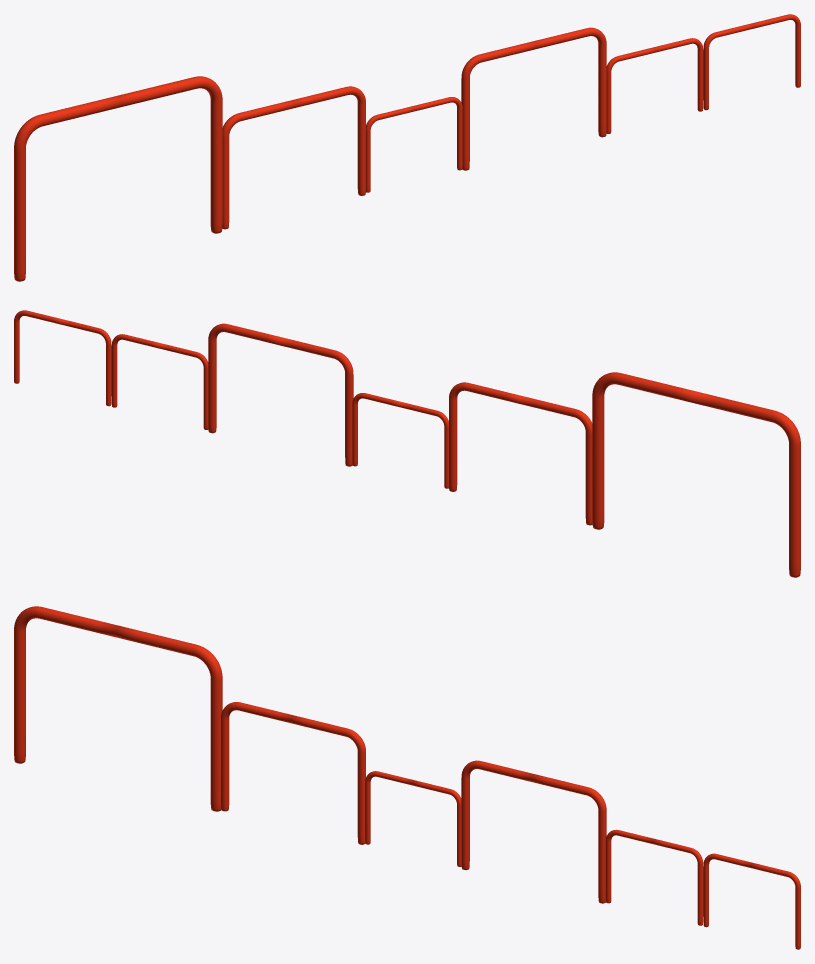
Rendered from red-fence.glb.
3 renders of one model, top to bottom at view 1: azimuth 30°, elevation 25°; view 2: azimuth 150°, elevation 25°; view 3: azimuth 330°, elevation 25°, orthographic.
Visible parts, largest first — view 1: Fence Red; view 2: Fence Red; view 3: Fence Red.
Boxes of the visible parts, x1=… form: Fence Red: x1=14, y1=14, x2=800, y2=281; Fence Red: x1=14, y1=310, x2=800, y2=577; Fence Red: x1=14, y1=606, x2=800, y2=949.
Size of the model in its own units: 4.37 by 0.8487 by 0.0575.
1 material, 1 textured.
